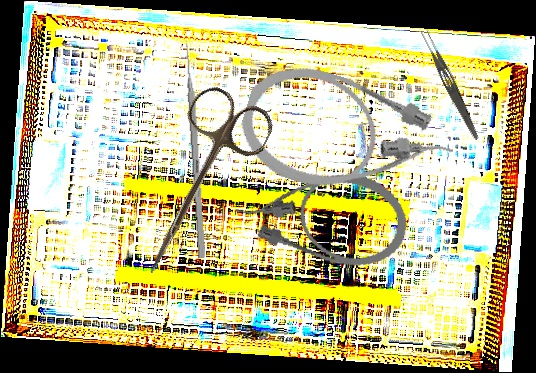Cannula: (230, 52, 464, 223), (228, 152, 417, 277)
Dressing Forceps: (417, 27, 485, 142)
Iris Scissors: (117, 80, 279, 294)
Pusher: (182, 31, 207, 259)
